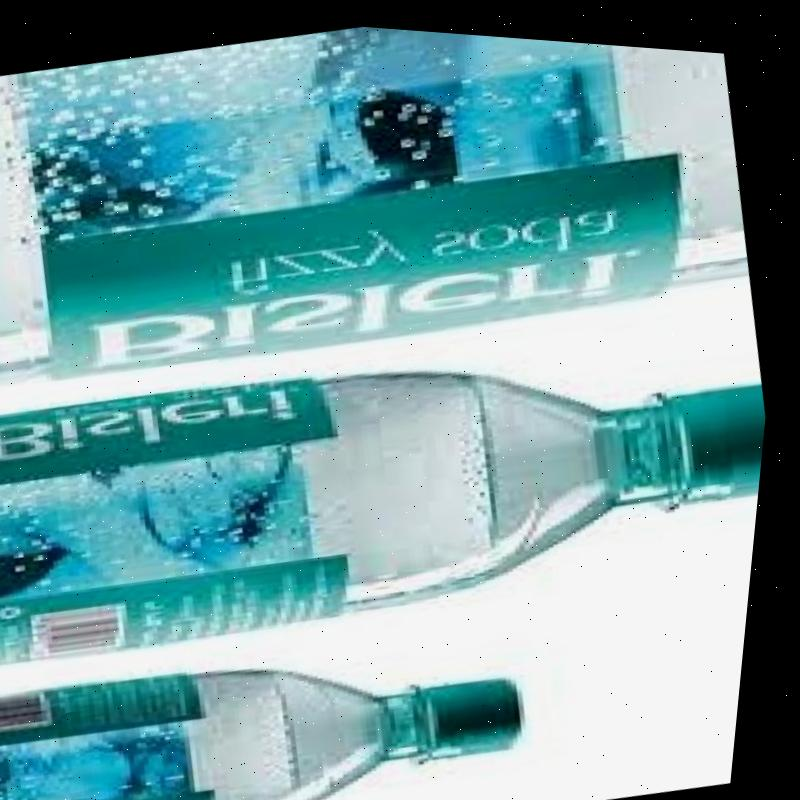botella: (0, 252, 781, 711), (0, 0, 772, 440), (0, 585, 557, 800)
